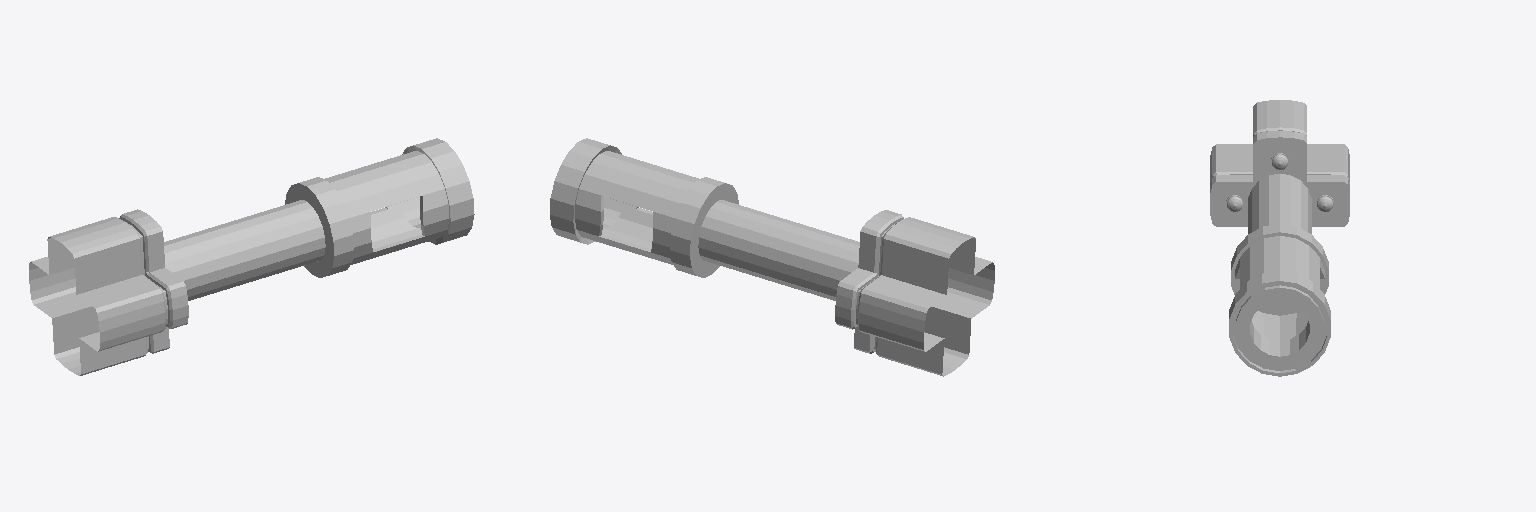
File: paoguan.obj
3 views of the same model, side by side, from view 1: azimuth 30°, elevation 25°; view 2: azimuth 150°, elevation 25°; view 3: azimuth 270°, elevation 25° (orthographic).
Visible parts, largest first — view 1: paoguan:paoguan; view 2: paoguan:paoguan; view 3: paoguan:paoguan.
Boxes of the visible parts, x1,y1,x2,y2 form: paoguan:paoguan: [29, 138, 474, 375]; paoguan:paoguan: [550, 138, 994, 376]; paoguan:paoguan: [1210, 100, 1349, 376].
Size of the model in its own units: 85.96 by 28.55 by 26.87.